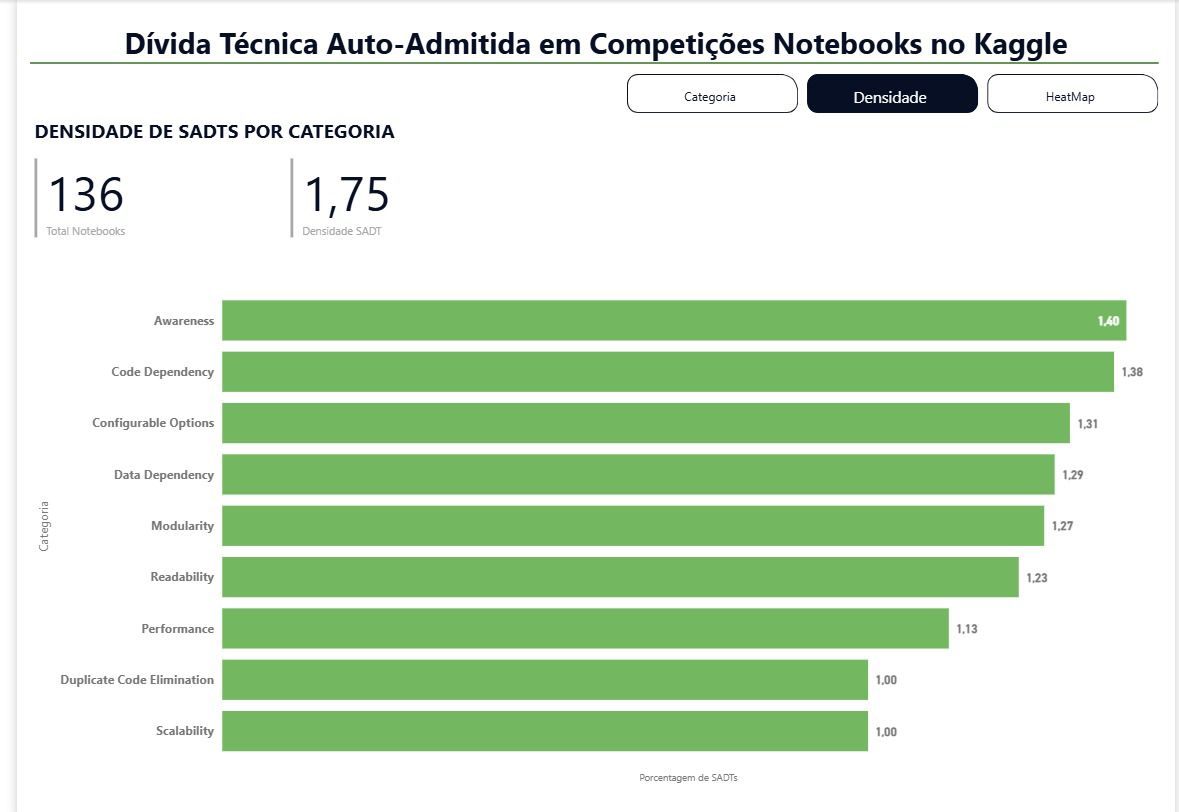

The page's visual inventory and layout, read from the dashboard file:
{"tool":"powerbi","page":{"name":"Densidade","canvas":[1280,906],"ordinal":1},"visuals":[{"type":"multiRowCard","fields":{"Values":["Medidas.TotalNotebooks"]},"box":[14.4,170.2,261.9,114.9],"z":0},{"type":"multiRowCard","fields":{"Values":["Medidas.DensidadeSADTs"]},"box":[297.2,170.2,263,114.9],"z":1000},{"type":"clusteredBarChart","fields":{"Category":["sadts_classificadas_IA.tipo_de_divida"],"Y":["Medidas.DensidadeSADTs"]},"box":[18.8,296.1,1243,574.5],"z":2000},{"type":"actionButton","box":[1340.5,122,35.1,48.1],"z":4000},{"type":"pageNavigator","title":"Navegador","box":[674,81.8,587.8,43.1],"z":6000},{"type":"textbox","box":[14.4,124.9,597.7,46.4],"z":7000},{"type":"textbox","box":[74,19.9,1131.4,59.7],"z":8000},{"type":"shape","box":[14.4,57.5,1247.4,24.3],"z":9000}]}

Visuals, with their boxes in screenshot pixels (x1, y1, x2, y2), scaled from the page's 1280x906 canvas onto the 1179x812 screenshot:
multiRowCard - Medidas.TotalNotebooks: [x1=13, y1=153, x2=254, y2=256]
multiRowCard - Medidas.DensidadeSADTs: [x1=274, y1=153, x2=516, y2=256]
clusteredBarChart - sadts_classificadas_IA.tipo_de_divida x Medidas.DensidadeSADTs: [x1=17, y1=265, x2=1162, y2=780]
"Navegador" pageNavigator: [x1=621, y1=73, x2=1162, y2=112]
textbox: [x1=13, y1=112, x2=564, y2=154]
textbox: [x1=68, y1=18, x2=1110, y2=71]
shape: [x1=13, y1=52, x2=1162, y2=73]
